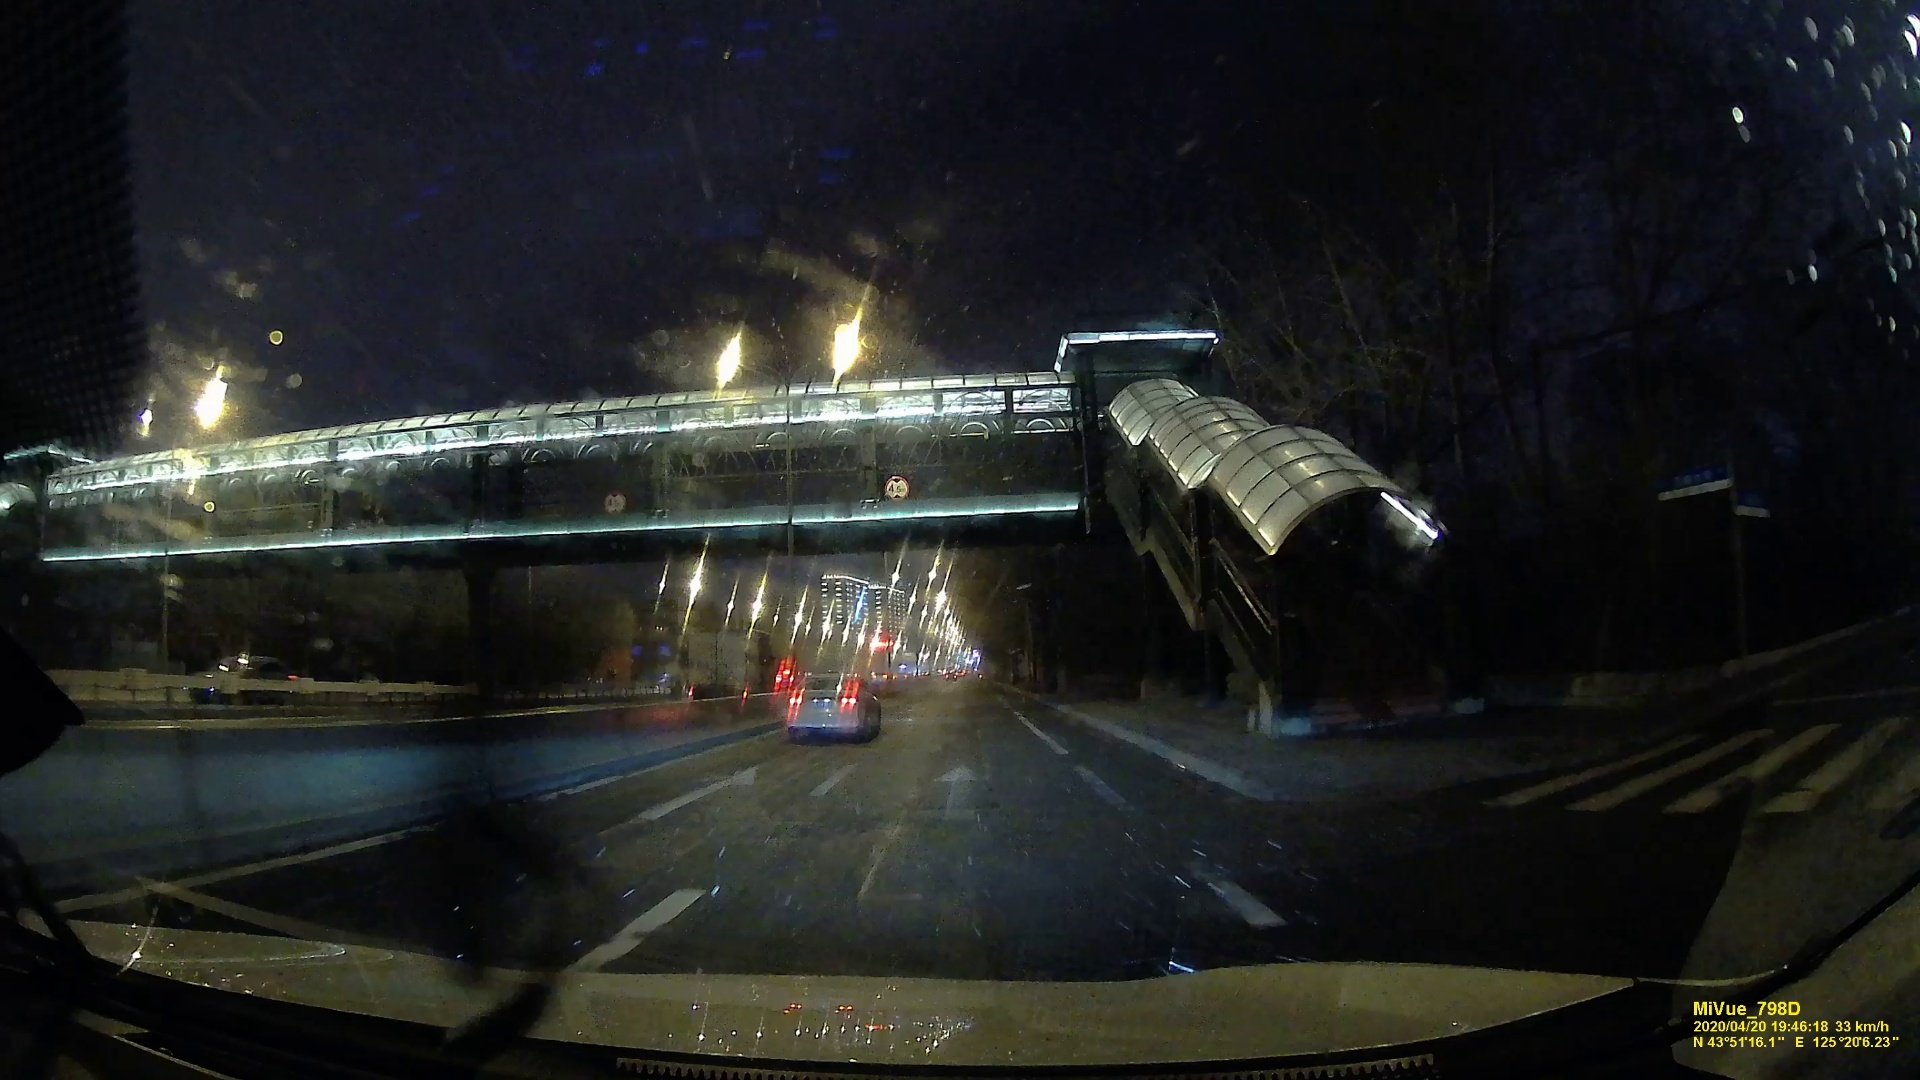traffic_sign: (885, 475, 910, 502)
vehicle: (782, 674, 884, 742)
